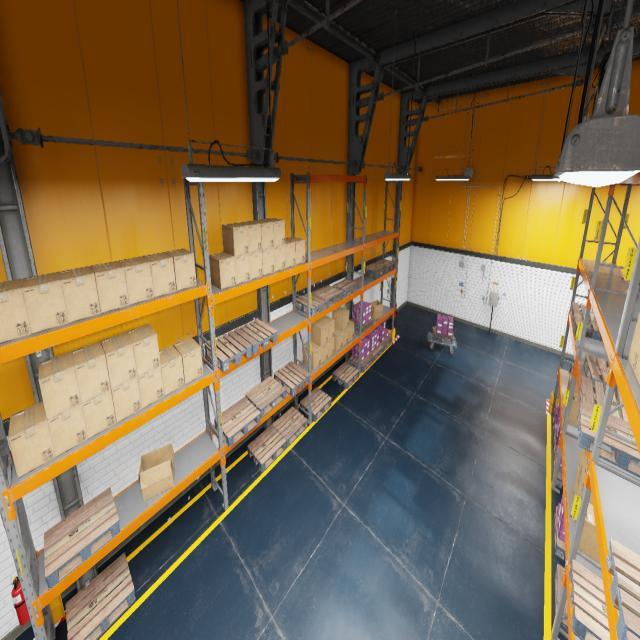box: (135, 446, 178, 497), (11, 414, 49, 463), (22, 287, 67, 326), (38, 361, 77, 406), (72, 349, 108, 396), (43, 406, 83, 448), (77, 396, 116, 430), (62, 281, 99, 316), (107, 346, 141, 384), (95, 271, 128, 309), (111, 386, 143, 417), (125, 265, 153, 300), (211, 252, 235, 287), (174, 256, 197, 290), (151, 264, 176, 295), (134, 342, 159, 372), (224, 225, 249, 254), (136, 377, 162, 404), (162, 365, 184, 389), (183, 354, 203, 380), (246, 222, 261, 253), (235, 257, 250, 283), (249, 253, 263, 280), (305, 343, 320, 368), (262, 224, 274, 253), (314, 321, 329, 343), (274, 222, 286, 246), (285, 244, 296, 268), (275, 249, 286, 272), (263, 253, 275, 274), (335, 311, 349, 328), (372, 300, 383, 321), (296, 242, 305, 265), (320, 346, 331, 363), (328, 338, 337, 355), (328, 318, 335, 338), (336, 330, 343, 349), (350, 322, 356, 341), (344, 329, 350, 343)
